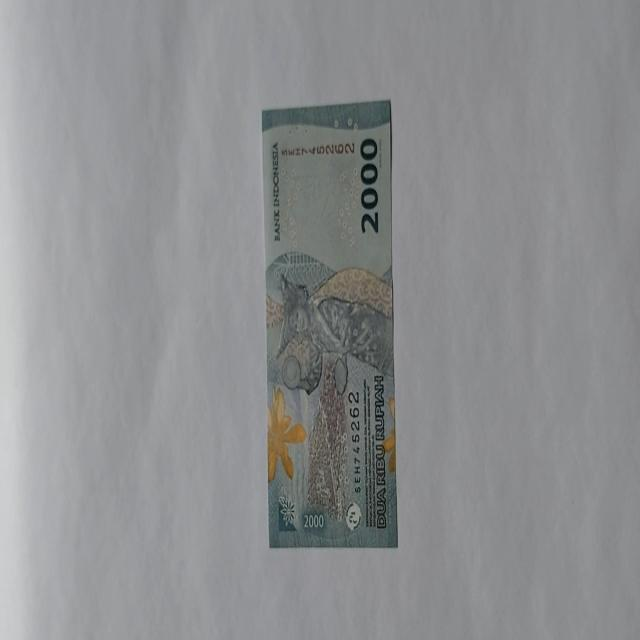dua ribu rupiah: (261, 100, 397, 548)
